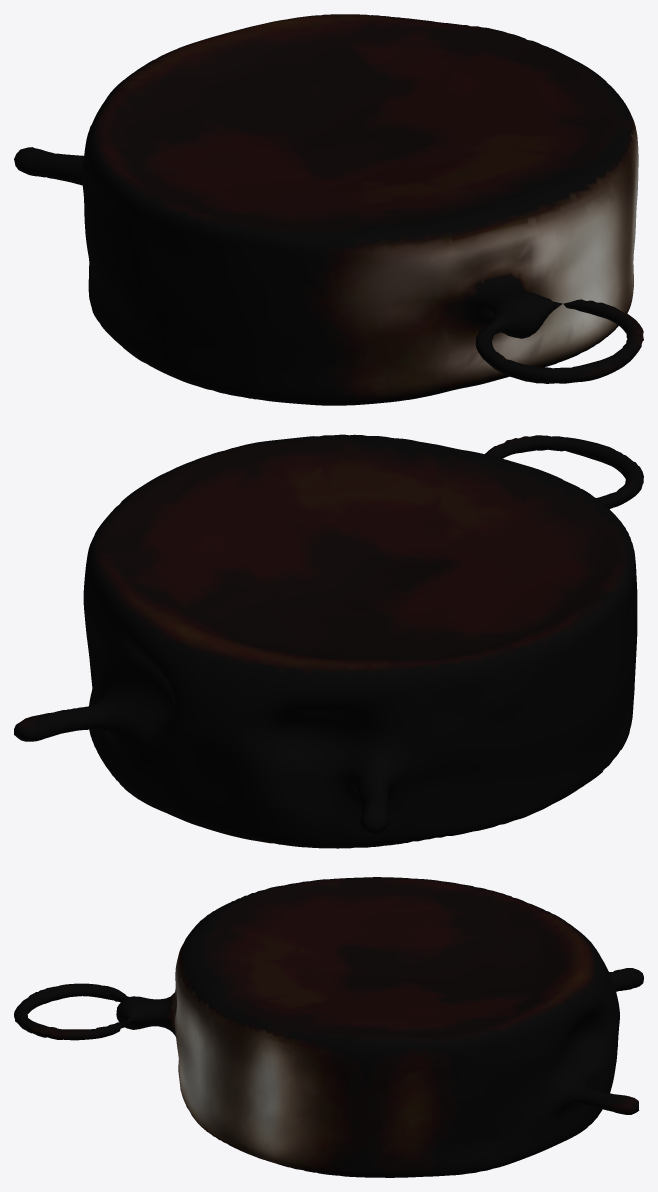
Rendered from alarm.glb.
3 views of the same model, one above another, from view 1: azimuth 30°, elevation 25°; view 2: azimuth 150°, elevation 25°; view 3: azimuth 270°, elevation 25° (orthographic). The views are drawn at different scales.
Size of the model in its own units: 0.6748 by 0.2552 by 0.9971.
